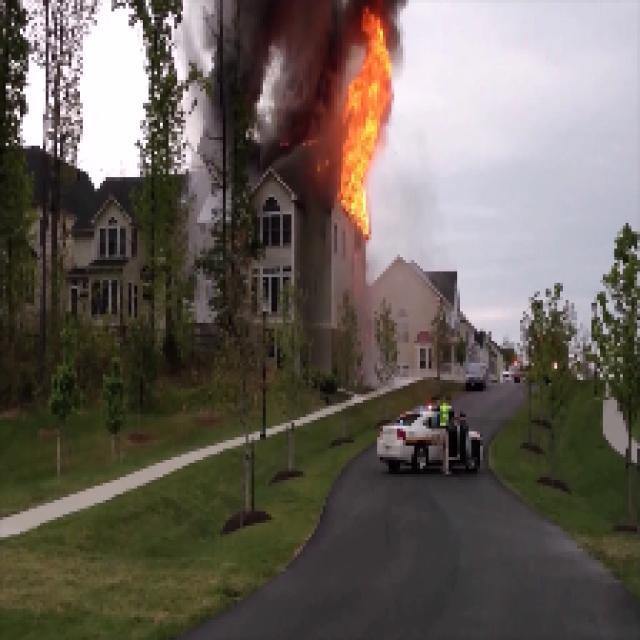Fire: (341, 14, 397, 242)
Smoke: (222, 5, 332, 168)
